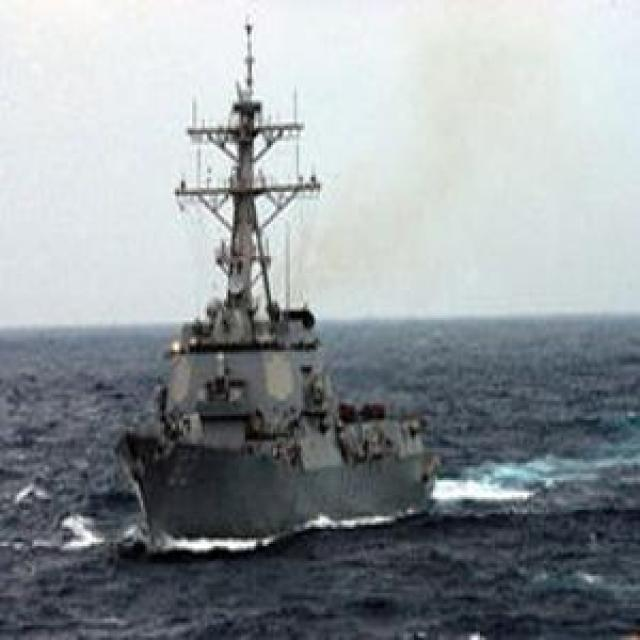navalvessels: (114, 9, 442, 532)
